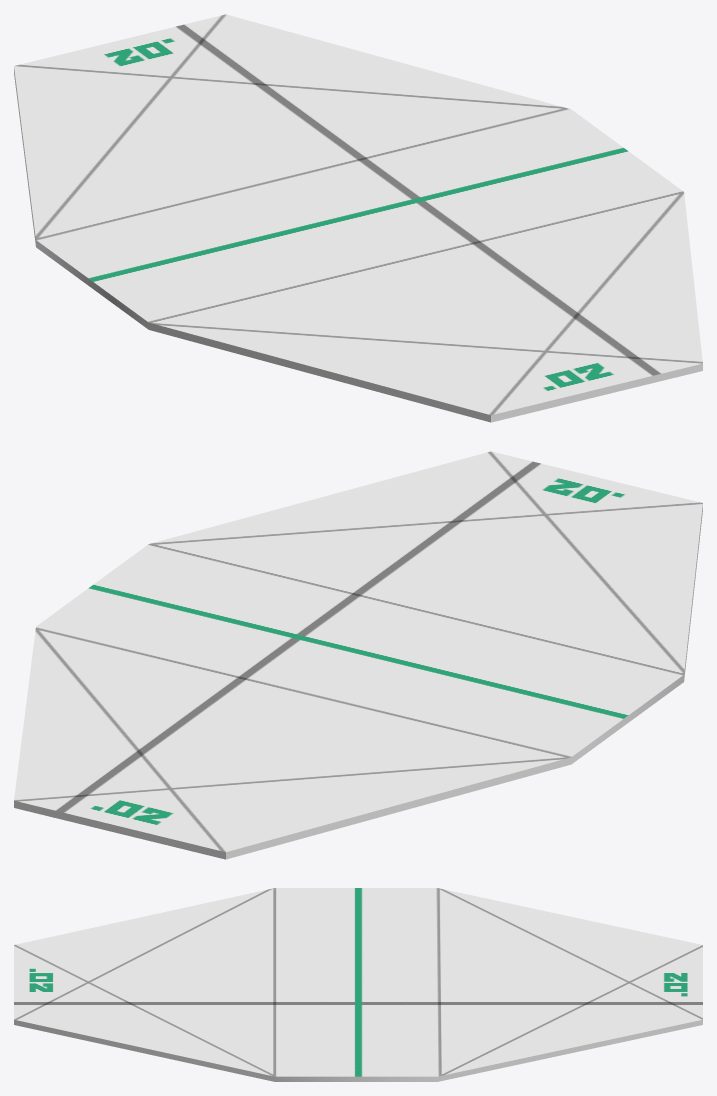
Rendered from MP_Ground_Plane2.fbx.
The picture shows the model from 3 angles, top to bottom: view 1: azimuth 30°, elevation 25°; view 2: azimuth 150°, elevation 25°; view 3: azimuth 270°, elevation 25°; orthographic projection. The views are drawn at different scales.
Parts seen in each view (by area): view 1: pCube1; view 2: pCube1; view 3: pCube1.
Part boxes in pixels (x1,y1,x2,y2): pCube1: (14, 14, 702, 422); pCube1: (14, 451, 702, 859); pCube1: (14, 888, 702, 1081).
Size of the model in its own units: 4714 by 61.89 by 7277.
